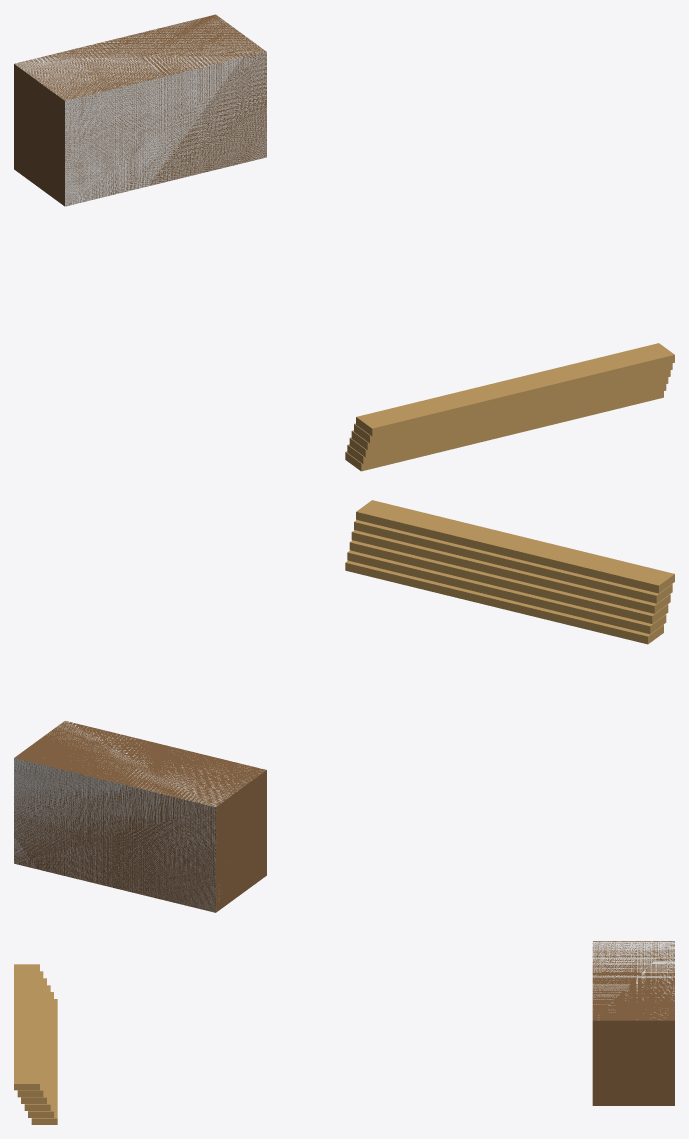
The model's file is booth-11-extra.glb.
The picture shows the model from 3 angles, top to bottom: view 1: azimuth 30°, elevation 25°; view 2: azimuth 150°, elevation 25°; view 3: azimuth 270°, elevation 25°; orthographic projection. The views are drawn at different scales.
Parts seen in each view (by area): view 1: 01_#8a6440_r320, solid, 00_#c8a060_r320; view 2: 01_#8a6440_r320, 00_#c8a060_r320, solid; view 3: 01_#8a6440_r320, 00_#c8a060_r320, solid.
Boxes of the visible parts, x1,y1,x2,y2 form: 01_#8a6440_r320: (14, 14, 266, 206); solid: (14, 17, 266, 206); 00_#c8a060_r320: (345, 343, 674, 471); 01_#8a6440_r320: (14, 721, 266, 912); 00_#c8a060_r320: (345, 500, 674, 644); solid: (14, 721, 261, 912); 01_#8a6440_r320: (592, 941, 674, 1105); 00_#c8a060_r320: (14, 964, 57, 1124); solid: (592, 941, 674, 1019).
Size of the model in its own units: 2.4 by 0.8 by 5.61.
